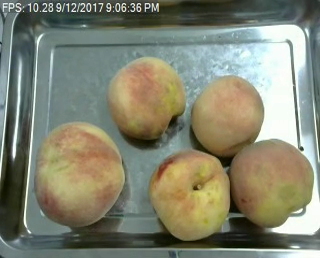Peach: (34, 121, 126, 228), (149, 146, 231, 241), (229, 138, 312, 227), (109, 56, 187, 140), (192, 74, 265, 155)
